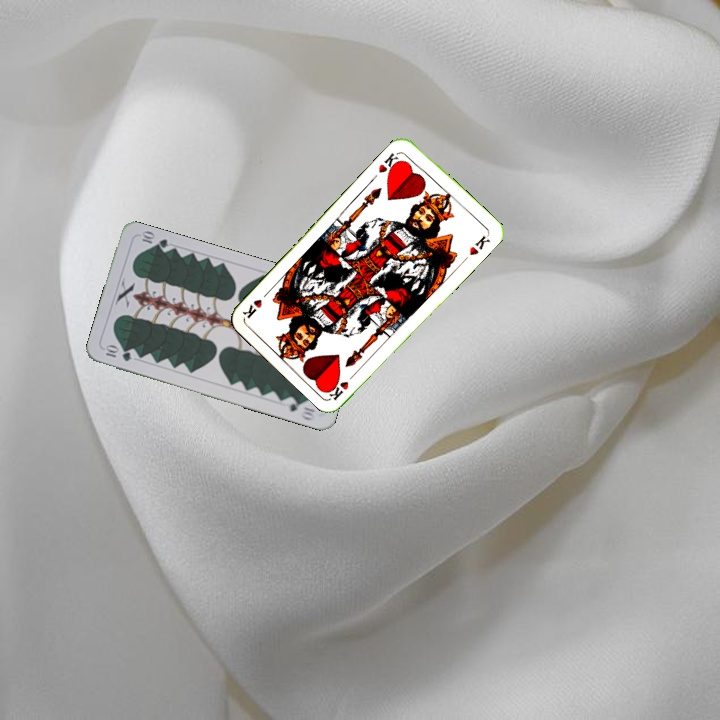G10: (102, 342, 134, 364)
HK: (326, 368, 360, 402), (374, 149, 404, 178)
